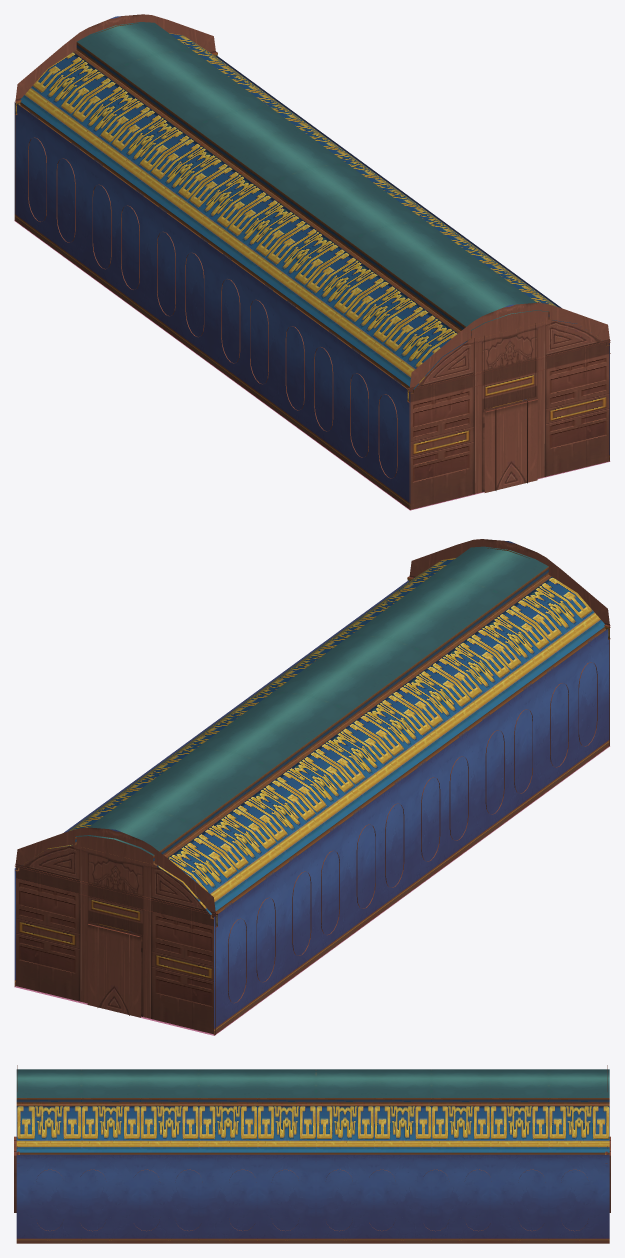
File: stage.glb
3 views of the same model, one above another, from view 1: azimuth 30°, elevation 25°; view 2: azimuth 150°, elevation 25°; view 3: azimuth 270°, elevation 25° (orthographic). The views are drawn at different scales.
Visible parts, largest first — view 1: KORE_export_5_walls_1.0_0_0.001, KORE_export_5_windows_1.0_0_0.001, KORE_export_5_floor_1.0_0_0.001; view 2: KORE_export_5_walls_1.0_0_0.001, KORE_export_5_windows_1.0_0_0.001, KORE_export_5_floor_1.0_0_0.001; view 3: KORE_export_5_walls_1.0_0_0.001, KORE_export_5_windows_1.0_0_0.001.
Part boxes in pixels (<box>): KORE_export_5_walls_1.0_0_0.001: <box>14,14,610,509</box>; KORE_export_5_windows_1.0_0_0.001: <box>28,112,526,478</box>; KORE_export_5_floor_1.0_0_0.001: <box>14,220,610,510</box>; KORE_export_5_walls_1.0_0_0.001: <box>14,539,610,1035</box>; KORE_export_5_windows_1.0_0_0.001: <box>129,636,597,1003</box>; KORE_export_5_floor_1.0_0_0.001: <box>14,746,609,1035</box>; KORE_export_5_walls_1.0_0_0.001: <box>14,1065,610,1243</box>; KORE_export_5_windows_1.0_0_0.001: <box>37,1169,587,1231</box>.
Bounding box in the file's own units: 5.26 × 4.5 × 18.
Materials: 3 (3 with a texture image).
